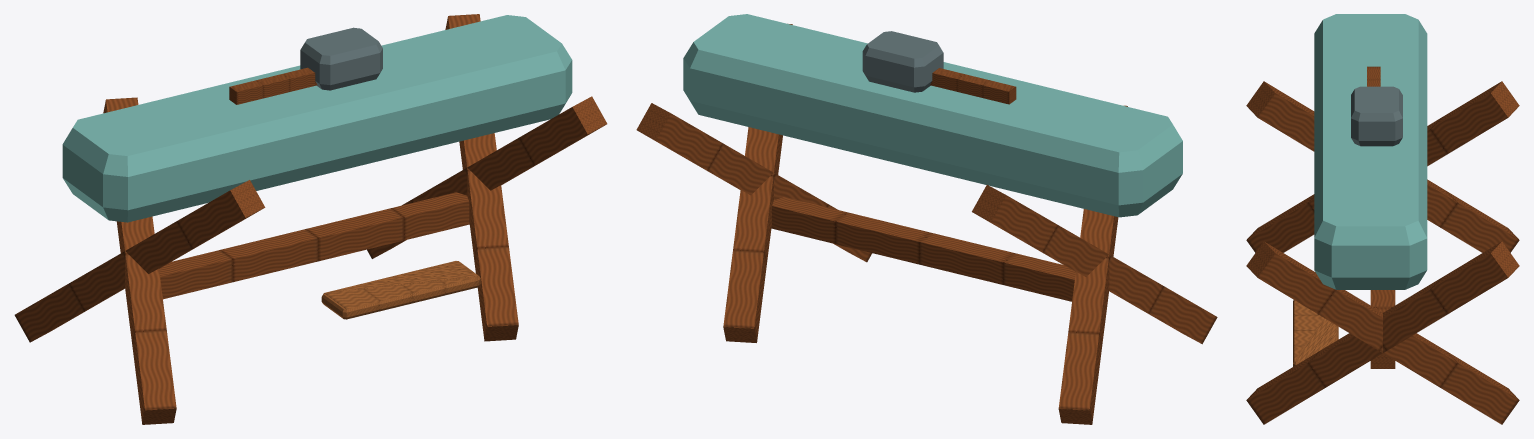
The model's file is ocean-raft-settlement-ocean-raft-settlement-repair-cra-79393ca7__28920.glb.
3 views of the same model, side by side, from view 1: azimuth 30°, elevation 25°; view 2: azimuth 150°, elevation 25°; view 3: azimuth 270°, elevation 25° (orthographic). The views are drawn at different scales.
Parts seen in each view (by area): view 1: teal, wood, pale, iron; view 2: teal, wood, iron; view 3: wood, teal, iron, pale.
Part boxes in pixels (left/top/right/bottom): teal: left=62, top=15, right=572, bottom=222; wood: left=14, top=14, right=607, bottom=424; pale: left=321, top=261, right=480, bottom=319; iron: left=300, top=27, right=382, bottom=90; teal: left=683, top=14, right=1182, bottom=217; wood: left=636, top=24, right=1217, bottom=424; iron: left=862, top=31, right=943, bottom=92; wood: left=1246, top=66, right=1519, bottom=424; teal: left=1314, top=14, right=1427, bottom=289; iron: left=1351, top=86, right=1402, bottom=146; pale: left=1293, top=300, right=1338, bottom=366.
Size of the model in its own units: 1.7 by 0.9792 by 0.8947.
Materials: 4 (2 with a texture image).
